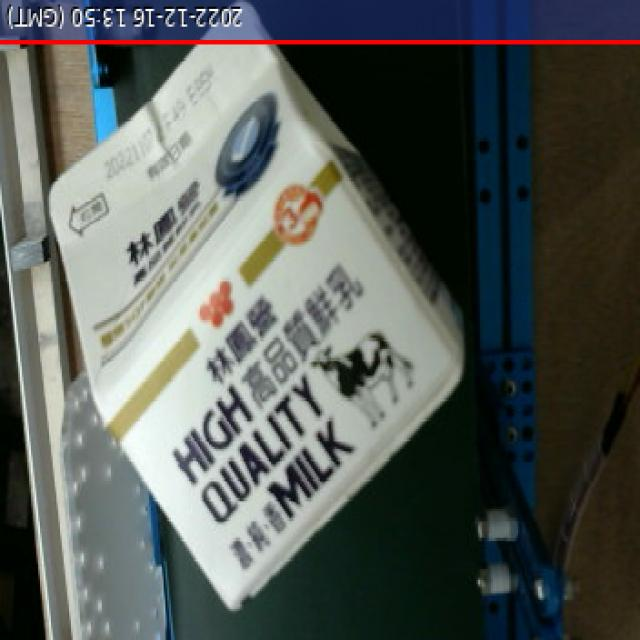non_white_jug: (17, 4, 495, 632)
